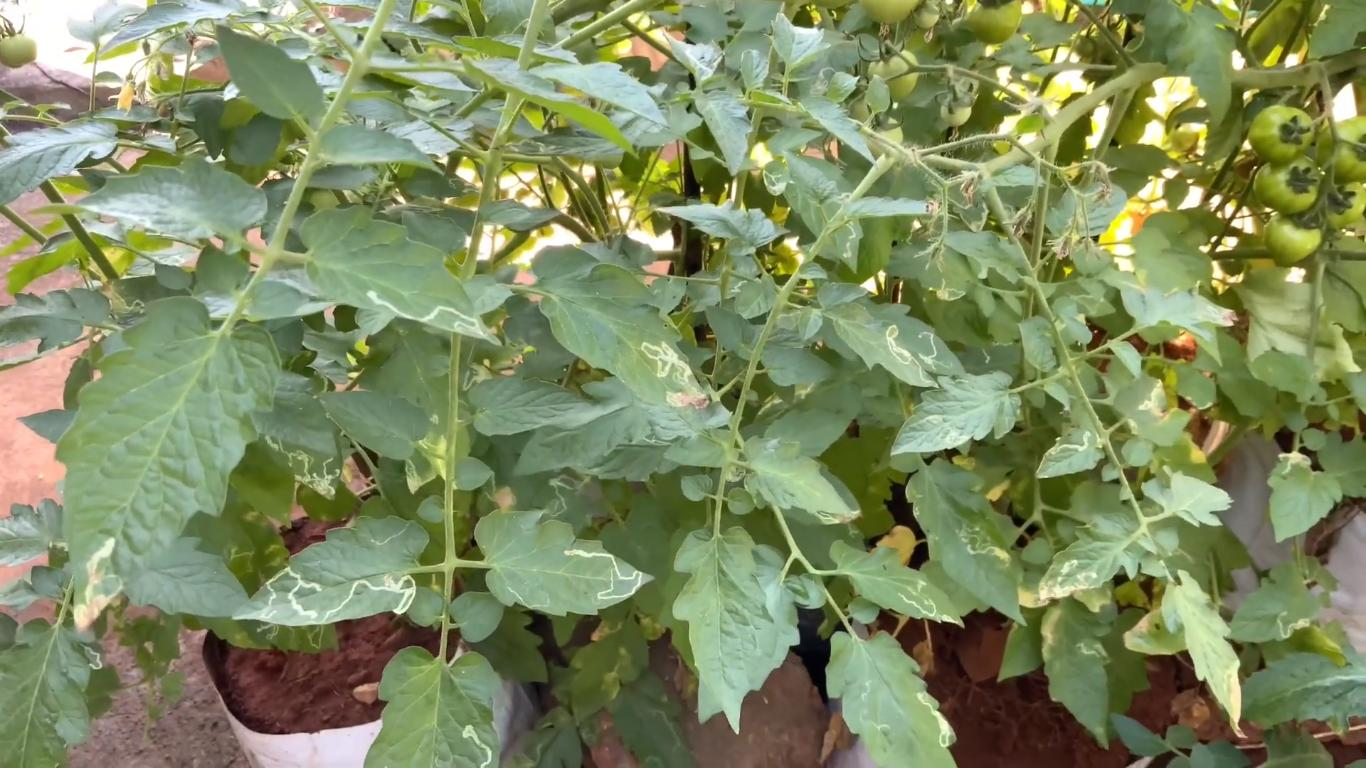Leaf_Miner: (53, 295, 280, 632), (299, 201, 505, 347), (530, 245, 712, 406), (230, 512, 430, 628), (907, 457, 1028, 627), (477, 506, 657, 617), (823, 631, 958, 768), (361, 644, 500, 768), (829, 537, 966, 630), (246, 371, 341, 503), (763, 156, 865, 275), (890, 369, 1019, 457), (1041, 597, 1113, 752), (1037, 512, 1156, 599), (831, 297, 940, 388), (853, 297, 967, 378), (1225, 561, 1323, 642), (1267, 450, 1343, 544), (883, 239, 974, 302), (1115, 375, 1192, 446), (1035, 427, 1106, 480)
